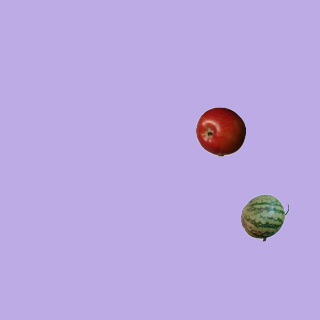Apple Braeburn: (195, 106, 245, 156)
Watermelon: (239, 192, 289, 242)
